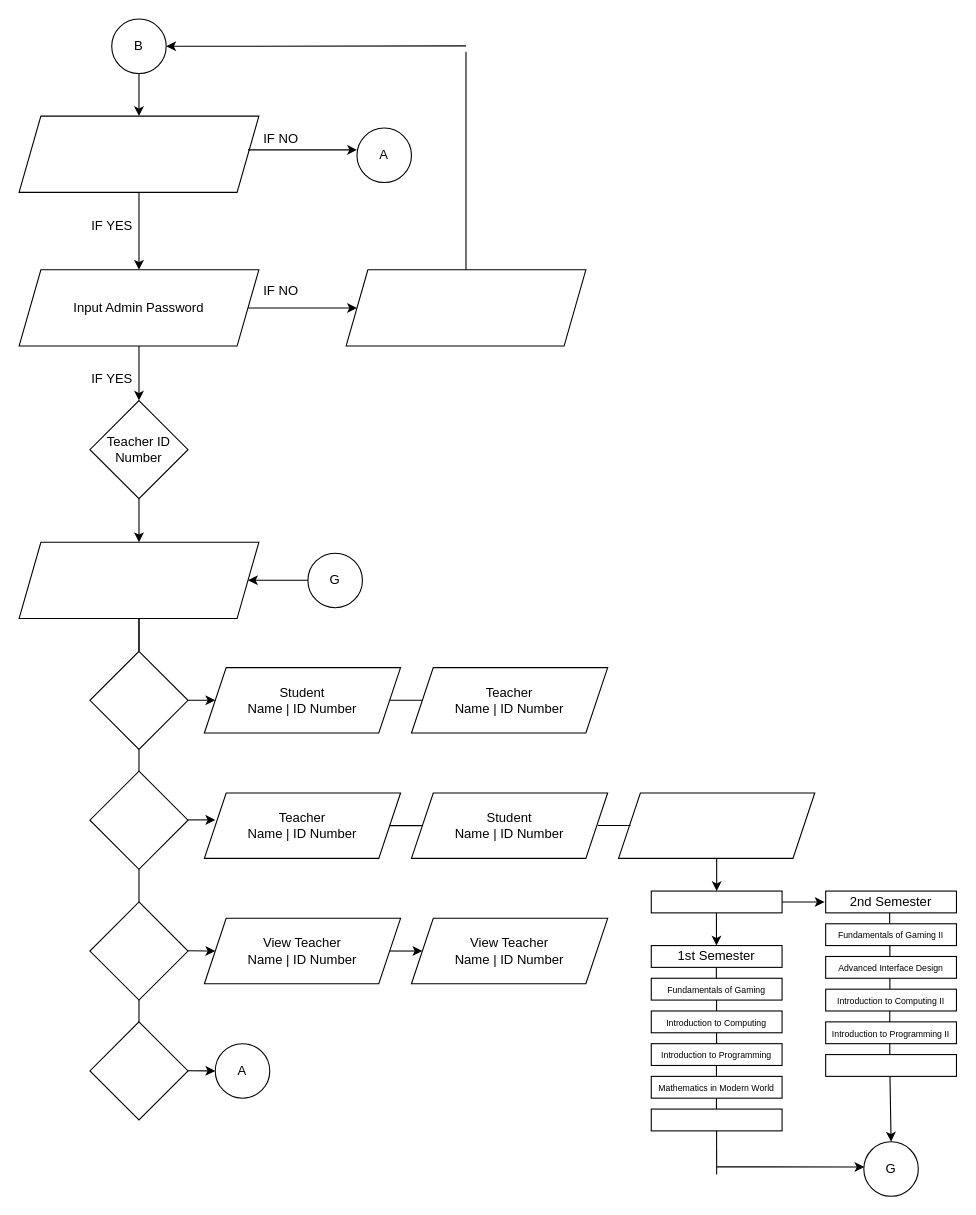
Some shapes in this 976 by 1215 pixel diagram are drawn without their labels. The centre of each missing label's shape, as x and y in pixels:
"Do you want to Login?" Y / N: the point at 138,153
Add: the point at 138,699
Back: the point at 138,1070
Choose Option: the point at 138,580
Choose Semester: the point at 716,901
Output: Wrong password: the point at 465,307
Physical Education I: the point at 716,1119
Physical Education II: the point at 890,1064
Remove: the point at 138,819
Student Grades: the point at 716,825
ViewList: the point at 138,950
